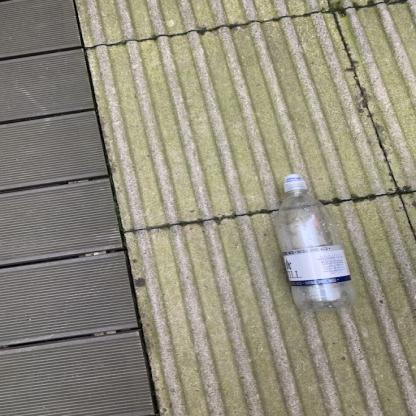trash: (268, 174, 356, 312)
